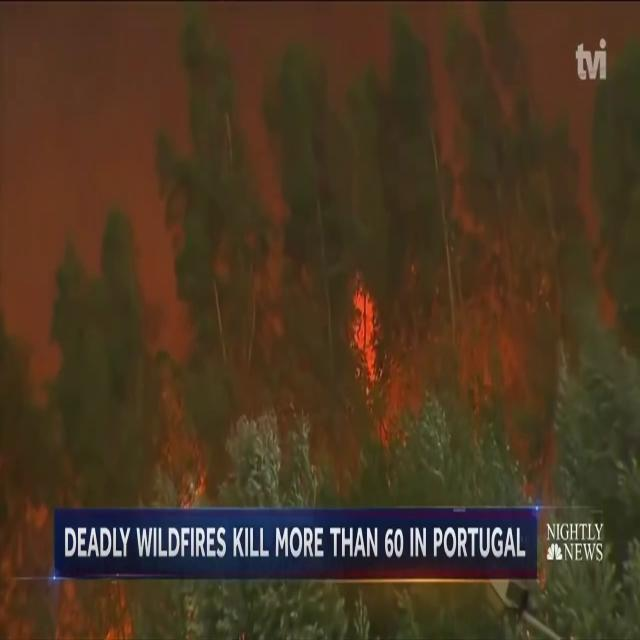Fire: (346, 275, 382, 393)
Smoke: (420, 1, 640, 483), (0, 1, 214, 470)
